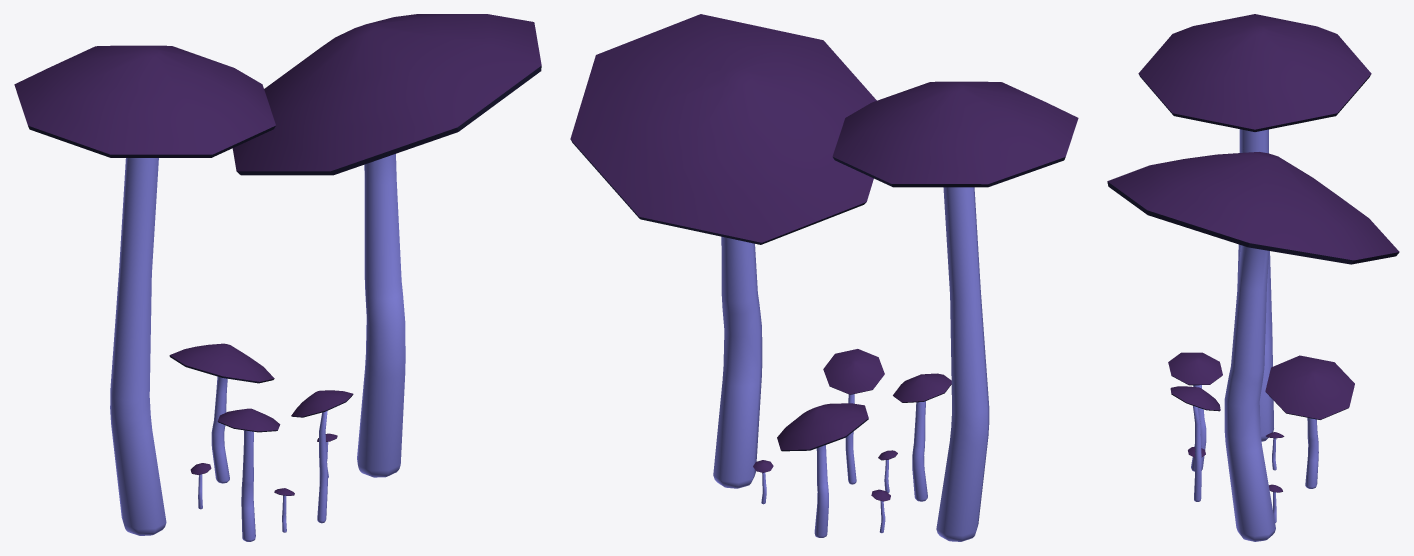
File: MushroomClulster.FBX
3 renders of one model, left to right at view 1: azimuth 30°, elevation 25°; view 2: azimuth 150°, elevation 25°; view 3: azimuth 270°, elevation 25°, orthographic. The views are drawn at different scales.
Visible parts, largest first — view 1: Cylinder001; view 2: Cylinder001; view 3: Cylinder001.
Boxes of the visible parts, left/top/right/bottom form: Cylinder001: left=14, top=14, right=541, bottom=541; Cylinder001: left=570, top=14, right=1078, bottom=541; Cylinder001: left=1107, top=14, right=1399, bottom=541.
Bounding box in the file's own units: 184 × 168 × 108.
